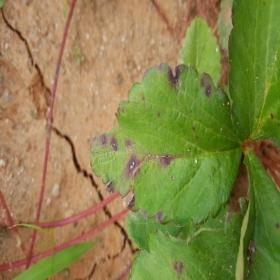Leaf Spot: (89, 63, 243, 226), (127, 197, 249, 279), (227, 0, 279, 141), (237, 147, 279, 279)
